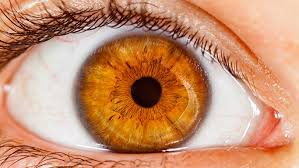pupil: (73, 31, 211, 154)
